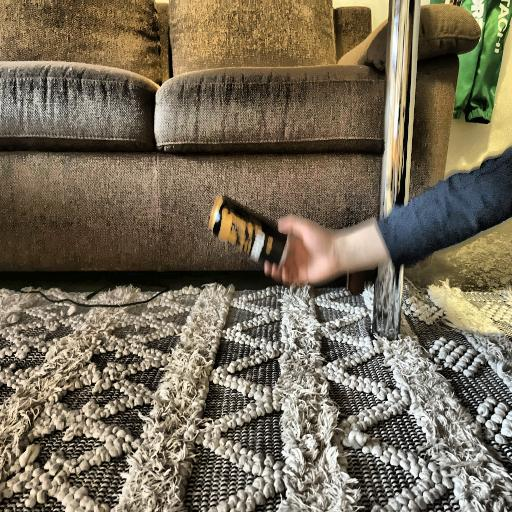karhu: (201, 187, 297, 280)
